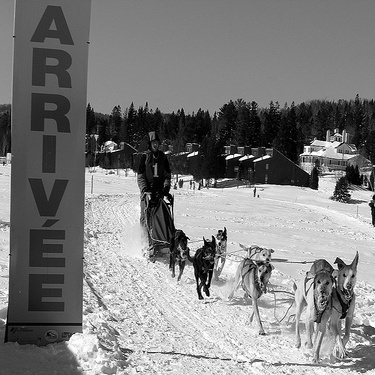dog: (306, 245, 365, 352), (275, 271, 338, 365), (219, 256, 276, 342), (230, 236, 279, 286), (157, 222, 189, 288), (188, 232, 218, 300), (208, 221, 230, 284)
